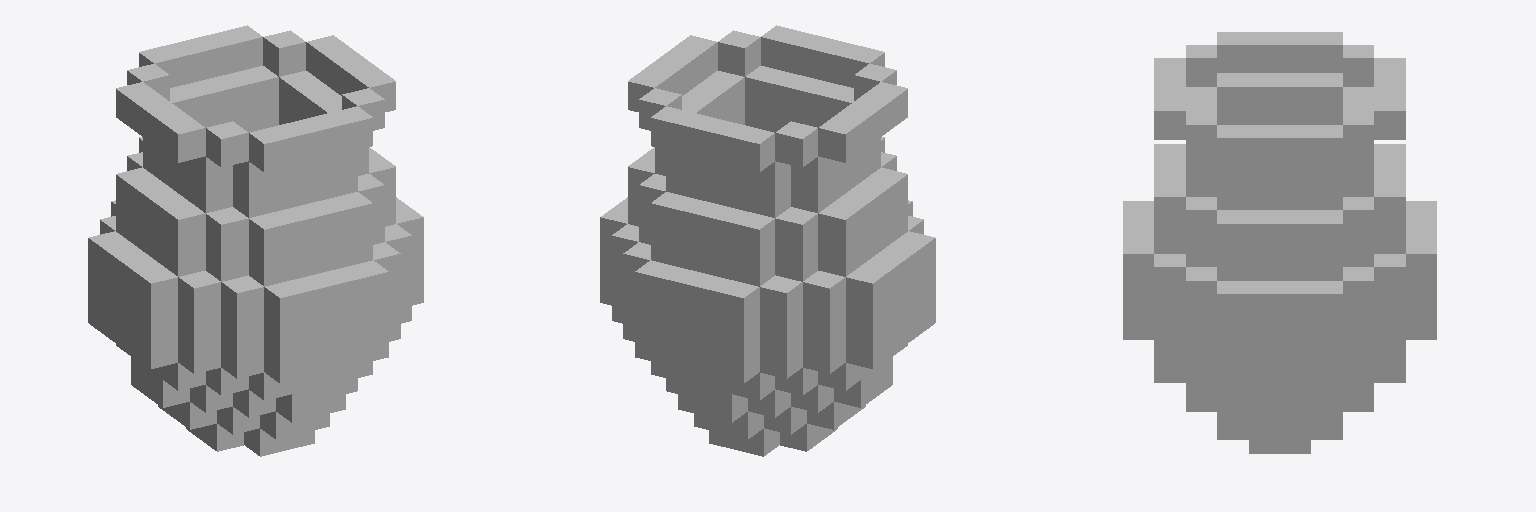
Rendered from painting_glass_bottle_fill.obj.
3 renders of one model, left to right at view 1: azimuth 30°, elevation 25°; view 2: azimuth 150°, elevation 25°; view 3: azimuth 270°, elevation 25°, orthographic.
Parts seen in each view (by area): view 1: node_0_0_0.005; view 2: node_0_0_0.005; view 3: node_0_0_0.005.
Boxes of the visible parts, <box> form: node_0_0_0.005: <box>88,25,423,456</box>; node_0_0_0.005: <box>600,25,935,456</box>; node_0_0_0.005: <box>1123,32,1436,453</box>.
Size of the model in its own units: 0.625 by 0.75 by 0.625.